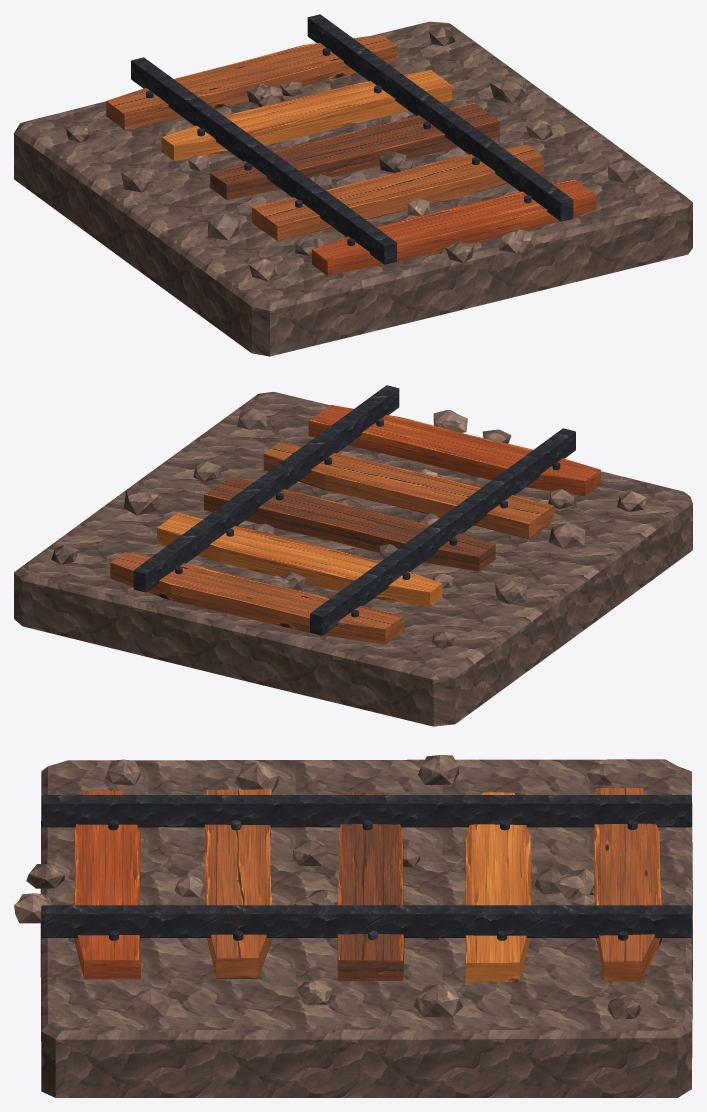
File: rail_lane.glb
3 views of the same model, one above another, from view 1: azimuth 30°, elevation 25°; view 2: azimuth 150°, elevation 25°; view 3: azimuth 270°, elevation 25° (orthographic). The views are drawn at different scales.
Visible parts, largest first — view 1: rails; view 2: rails; view 3: rails.
Boxes of the visible parts, bbox=[...] form: rails: bbox=[14, 14, 692, 356]; rails: bbox=[14, 385, 692, 726]; rails: bbox=[14, 755, 692, 1097].
Size of the model in its own units: 1.99 by 0.36 by 2.08.
9 materials, 9 textured.
